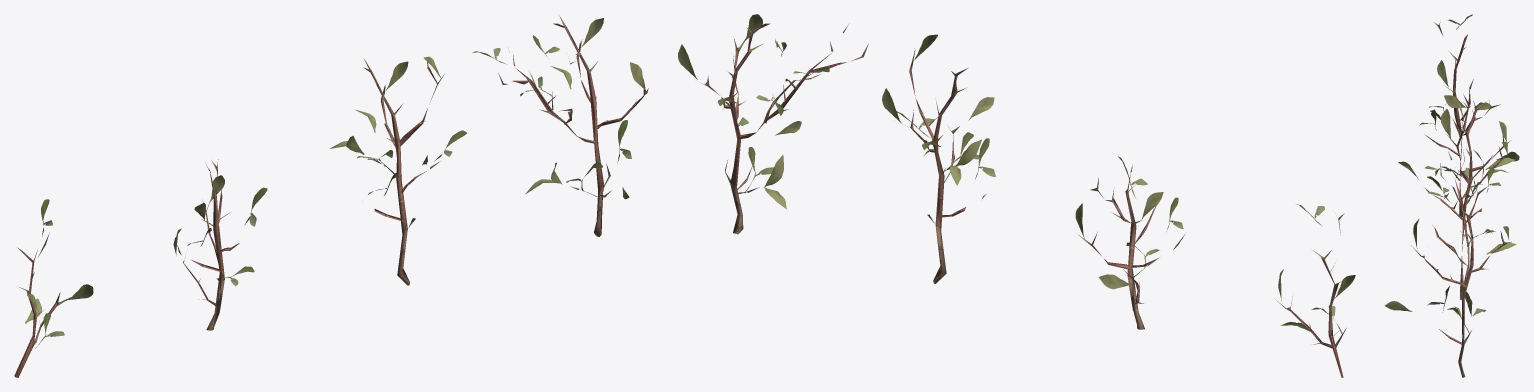
File: shrub4.glb
3 views of the same model, side by side, from view 1: azimuth 30°, elevation 25°; view 2: azimuth 150°, elevation 25°; view 3: azimuth 270°, elevation 25° (orthographic). The views are drawn at different scales.
Visible parts, largest first — view 1: lod1; view 2: lod1; view 3: lod1.
Part boxes in pixels (bbox=[...]): lod1: bbox=[14, 14, 648, 377]; lod1: bbox=[678, 14, 1355, 377]; lod1: bbox=[1385, 14, 1519, 377].
Bounding box in the file's own units: 3.21 × 1.16 × 0.7303.
1 material, 1 textured.
